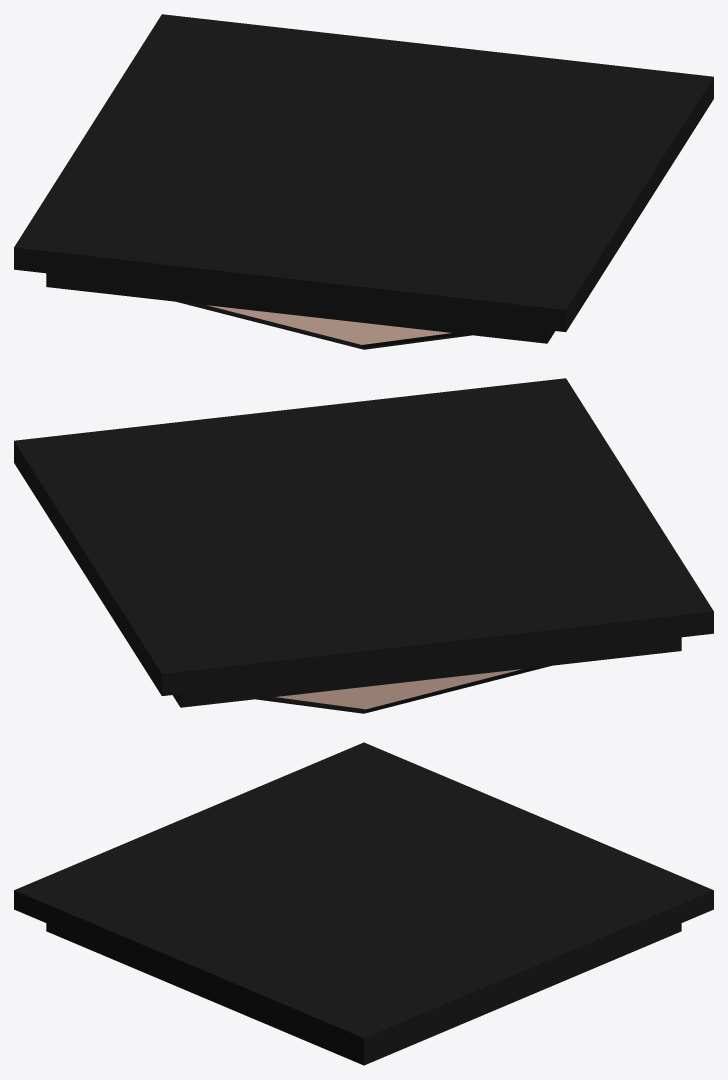
Rendered from Light_Pyramid01.dae.
3 renders of one model, top to bottom at view 1: azimuth 30°, elevation 25°; view 2: azimuth 150°, elevation 25°; view 3: azimuth 270°, elevation 25°, orthographic. The views are drawn at different scales.
Visible parts, largest first — view 1: pPyramid4; view 2: pPyramid4; view 3: pPyramid4.
Part boxes in pixels (x1,y1,x2,y2): pPyramid4: (14, 14, 713, 349); pPyramid4: (14, 378, 713, 713); pPyramid4: (14, 742, 713, 1065).
Size of the model in its own units: 1.08 by 0.2756 by 1.08.
1 material, 1 textured.
